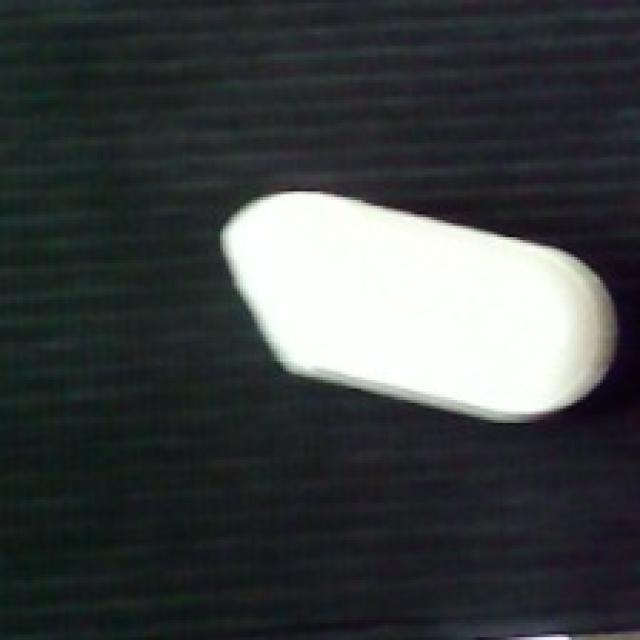defected: (217, 194, 623, 429)
